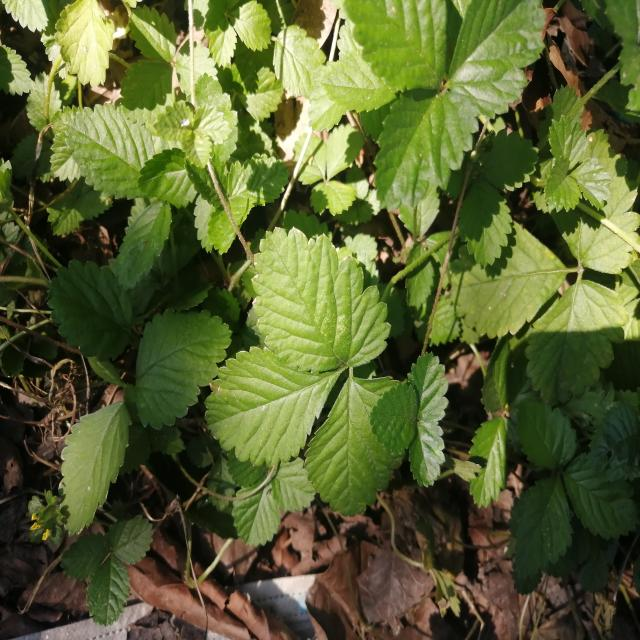Mock_strawberry: (211, 227, 438, 495), (353, 0, 535, 222)
